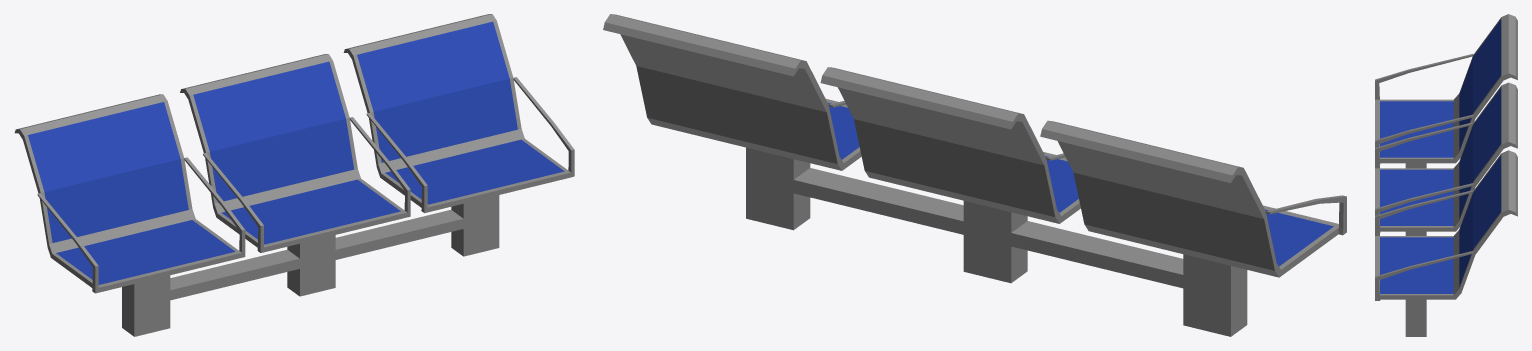
The model's file is HospitalChair.fbx.
3 views of the same model, side by side, from view 1: azimuth 30°, elevation 25°; view 2: azimuth 150°, elevation 25°; view 3: azimuth 270°, elevation 25° (orthographic). The views are drawn at different scales.
Parts seen in each view (by area): view 1: Cube; view 2: Cube; view 3: Cube.
Part boxes in pixels (x1=…): Cube: x1=14, y1=14, x2=574, y2=336; Cube: x1=603, y1=14, x2=1346, y2=336; Cube: x1=1375, y1=14, x2=1517, y2=336.
Size of the model in its own units: 668 by 235 by 203.
